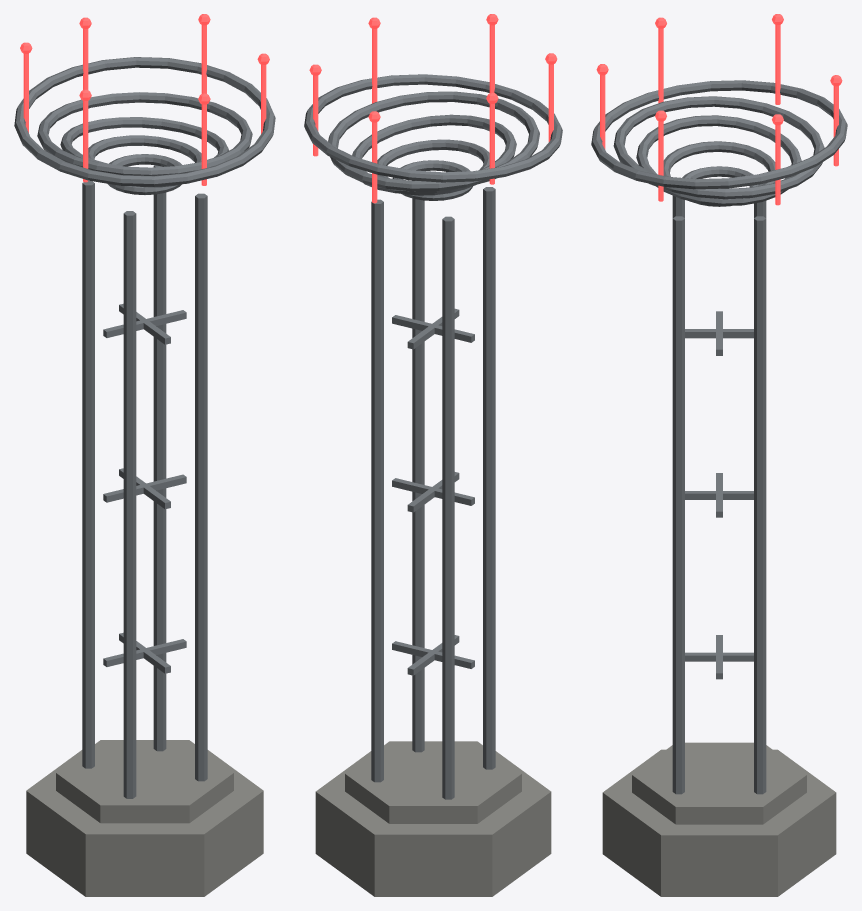
The model's file is crimson_coil_tower.glb.
The picture shows the model from 3 angles, left to right: view 1: azimuth 30°, elevation 25°; view 2: azimuth 150°, elevation 25°; view 3: azimuth 270°, elevation 25°; orthographic projection.
Parts seen in each view (by area): view 1: CrimsonCoilTower; view 2: CrimsonCoilTower; view 3: CrimsonCoilTower.
Boxes of the visible parts, x1=… form: CrimsonCoilTower: x1=14, y1=14, x2=275, y2=896; CrimsonCoilTower: x1=304, y1=14, x2=562, y2=896; CrimsonCoilTower: x1=591, y1=14, x2=847, y2=896.
Size of the model in its own units: 1.58 by 5.42 by 1.58.
